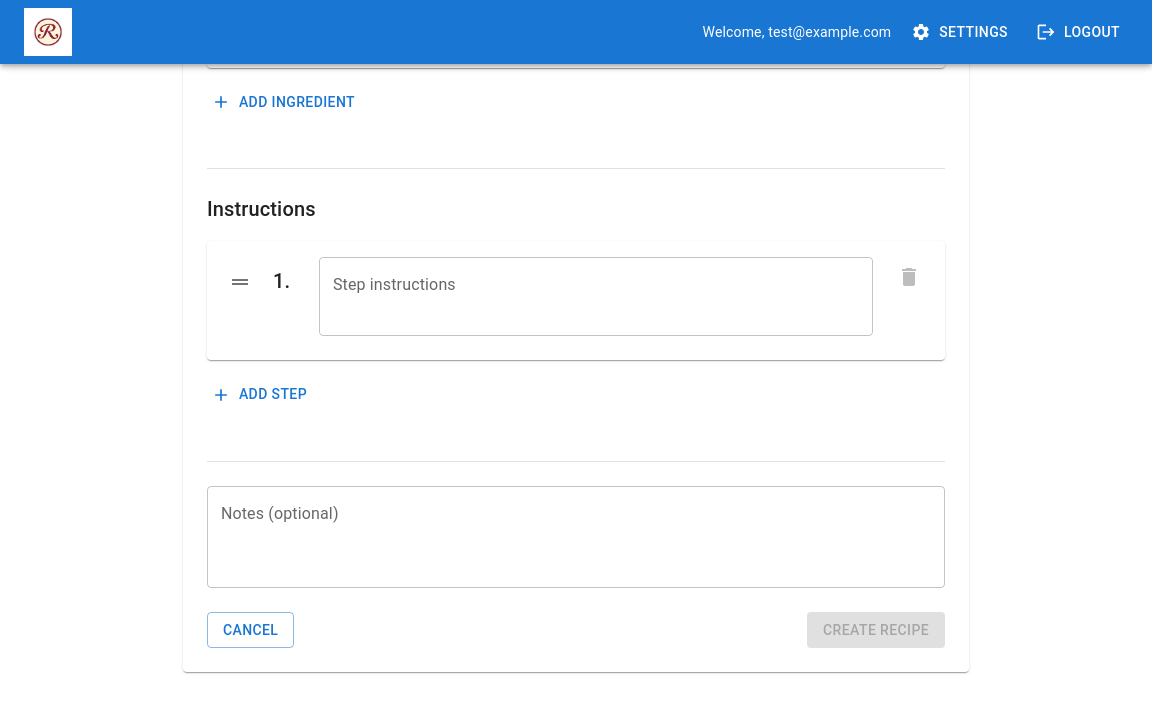
Test case: RecipeEditPage › Step management › can add a new step
(page scrolled)
Click the button "Add Step".
click(261, 395)  # box [207,376,315,413]
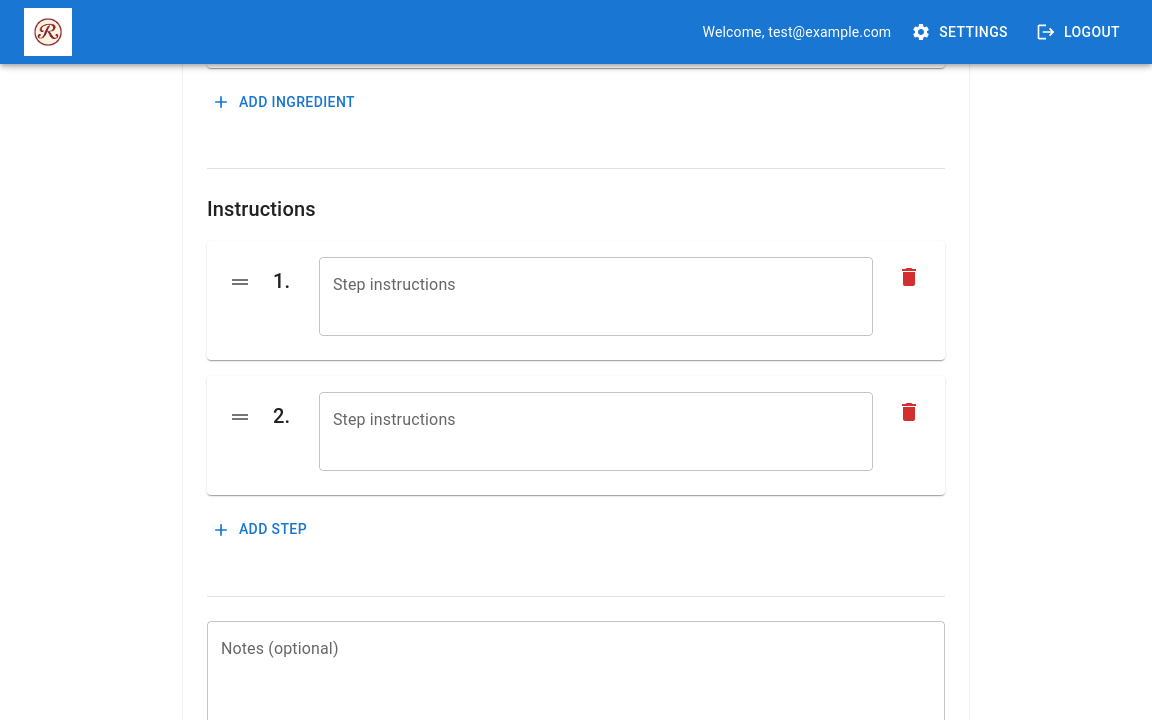
Check: the number of text boxes labelled "Step instructions" is 2, box [333,274,859,320]; [333,409,859,455]
Check: the heading "2." is shown, box [273,404,290,428]
